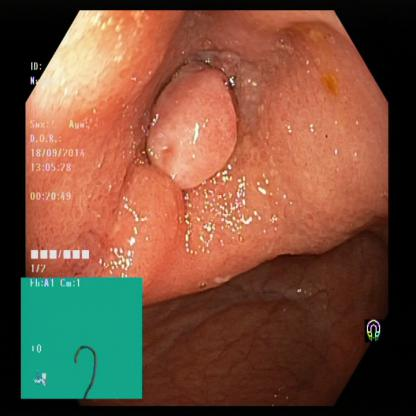Labels: (26, 56, 107, 280), (20, 273, 143, 399), (361, 310, 388, 350)
Polyps: (142, 69, 242, 194)
